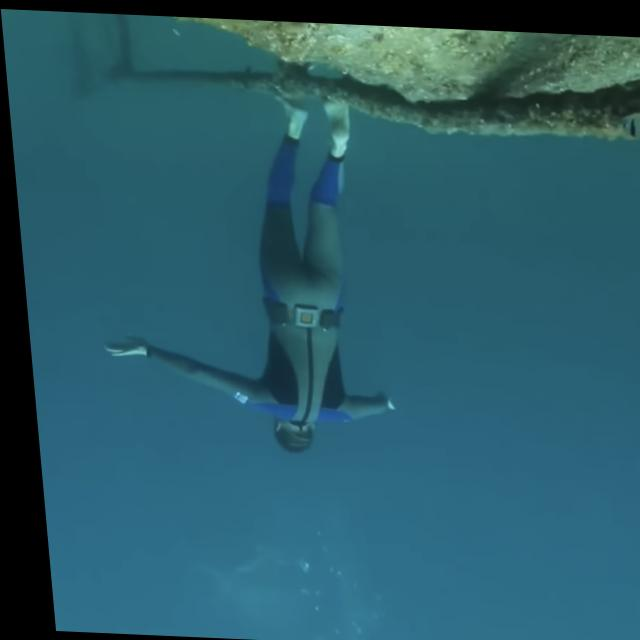human: (71, 74, 396, 464)
